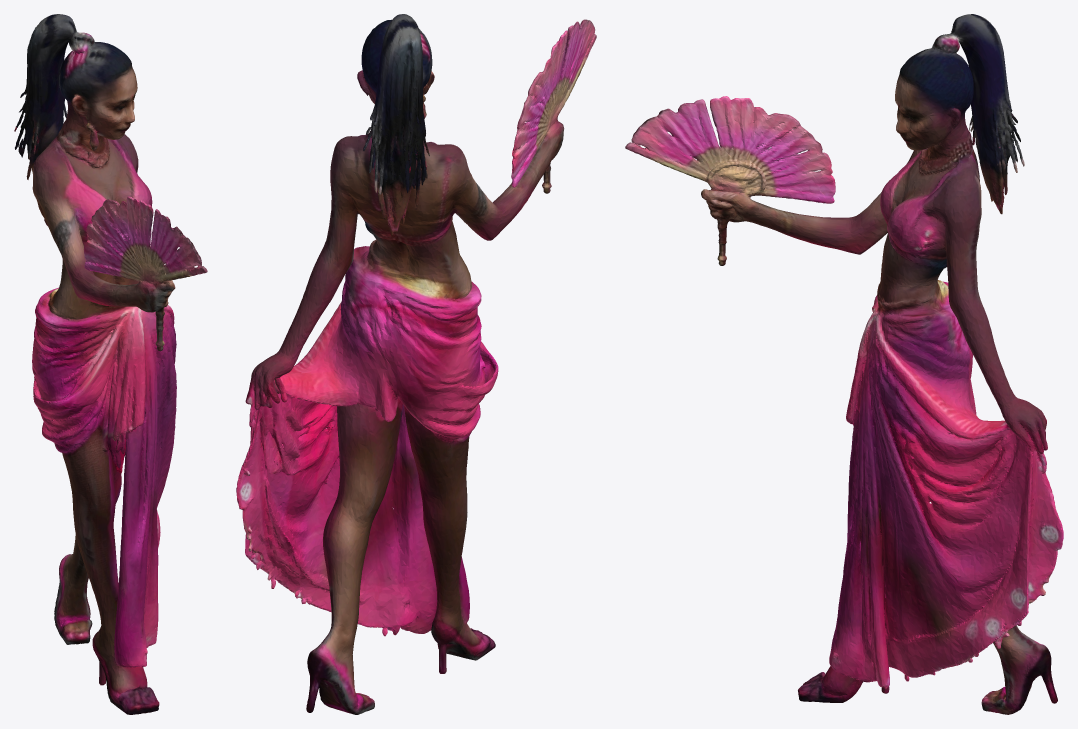
Rendered from modelo28.glb.
3 views of the same model, side by side, from view 1: azimuth 30°, elevation 25°; view 2: azimuth 150°, elevation 25°; view 3: azimuth 270°, elevation 25° (orthographic). The views are drawn at different scales.
Visible parts, largest first — view 1: tripo_node_5d8b35d2-7905-4942-b835-f82ea6f44d79; view 2: tripo_node_5d8b35d2-7905-4942-b835-f82ea6f44d79; view 3: tripo_node_5d8b35d2-7905-4942-b835-f82ea6f44d79.
Part boxes in pixels (bbox=[...]): tripo_node_5d8b35d2-7905-4942-b835-f82ea6f44d79: bbox=[14, 14, 207, 714]; tripo_node_5d8b35d2-7905-4942-b835-f82ea6f44d79: bbox=[236, 14, 596, 714]; tripo_node_5d8b35d2-7905-4942-b835-f82ea6f44d79: bbox=[625, 14, 1063, 714].
Bounding box in the file's own units: 0.2799 × 1 × 0.5872.
Materials: 1 (1 with a texture image).
